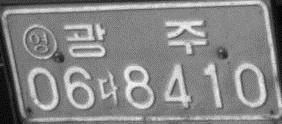0: (233, 61, 267, 108), (26, 65, 59, 111)
1: (198, 62, 227, 108)
4: (164, 62, 192, 108)
6: (62, 64, 94, 110)
8: (122, 64, 154, 110)
광주_D: (64, 20, 209, 59)
다: (97, 68, 120, 106)
영: (22, 23, 57, 60)
